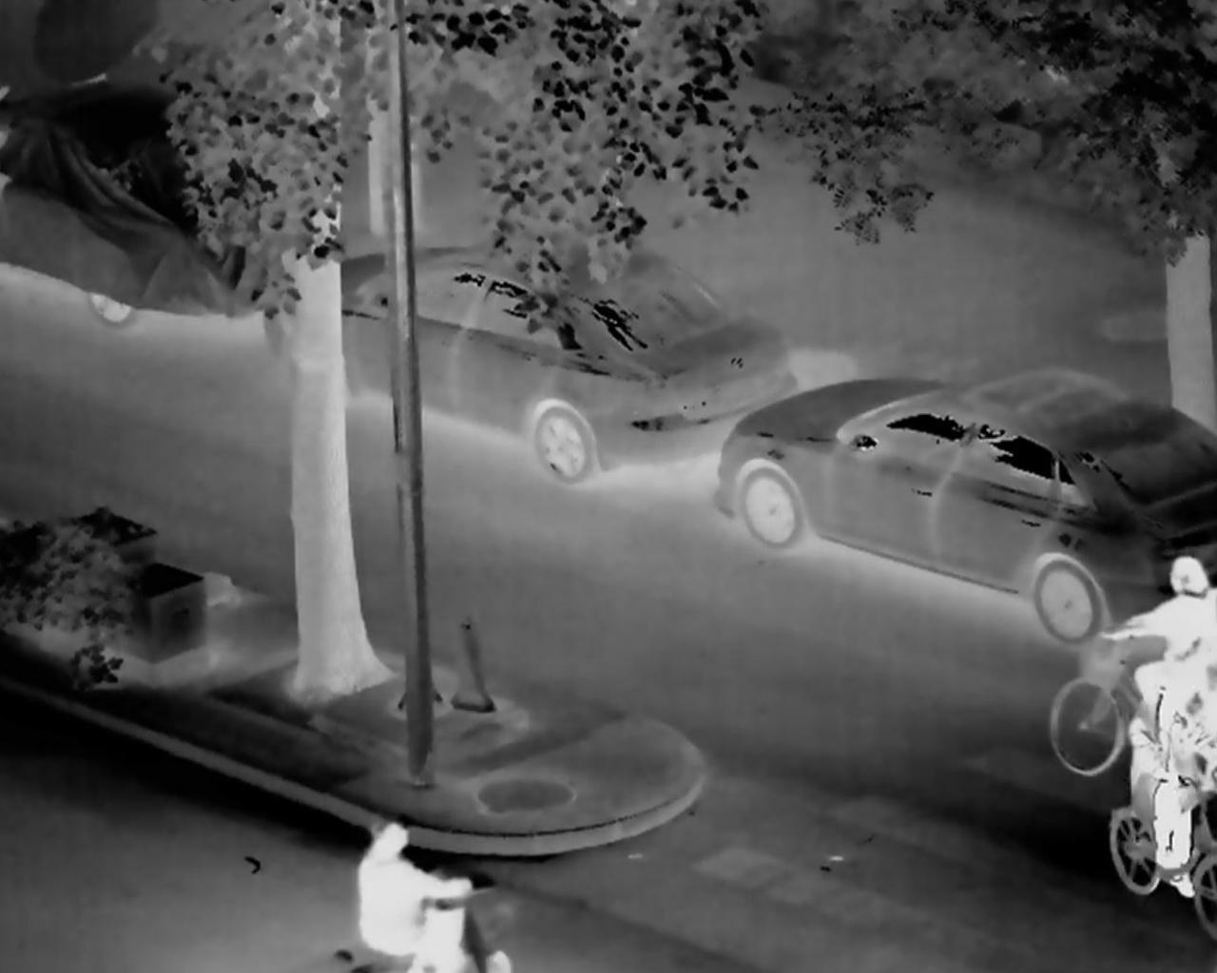person: (1089, 682, 1217, 886), (1104, 544, 1217, 757), (351, 811, 472, 973)
